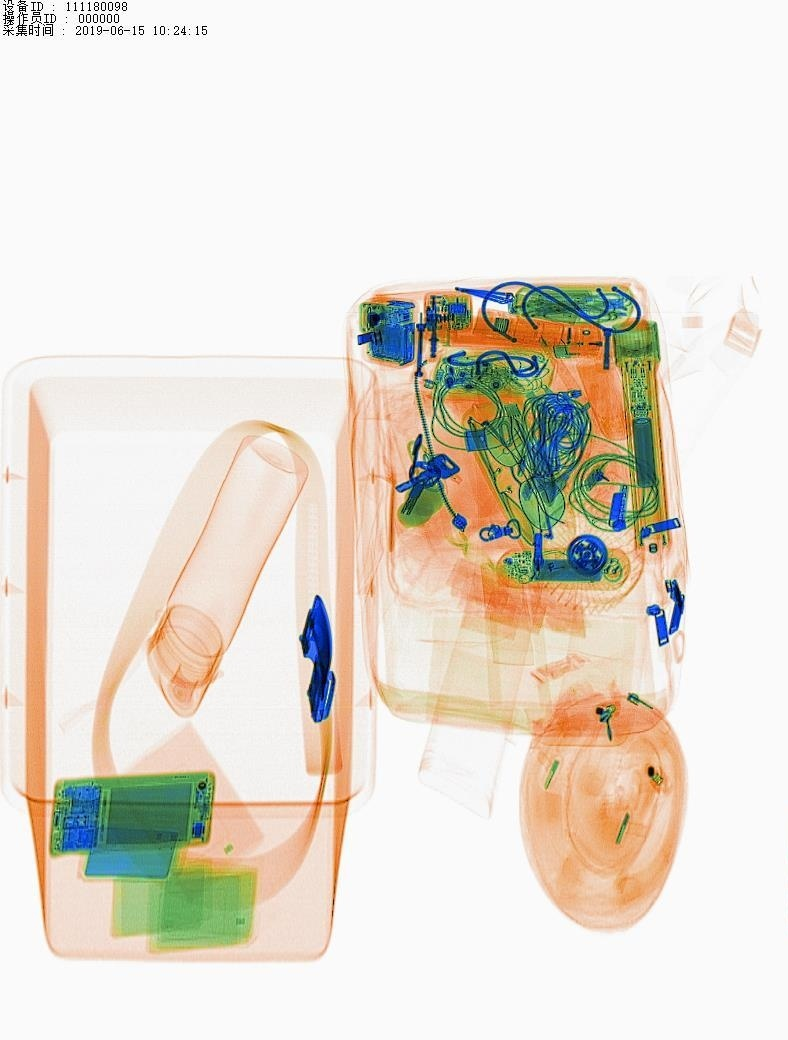NonmetallicFire: (550, 331, 642, 372)
